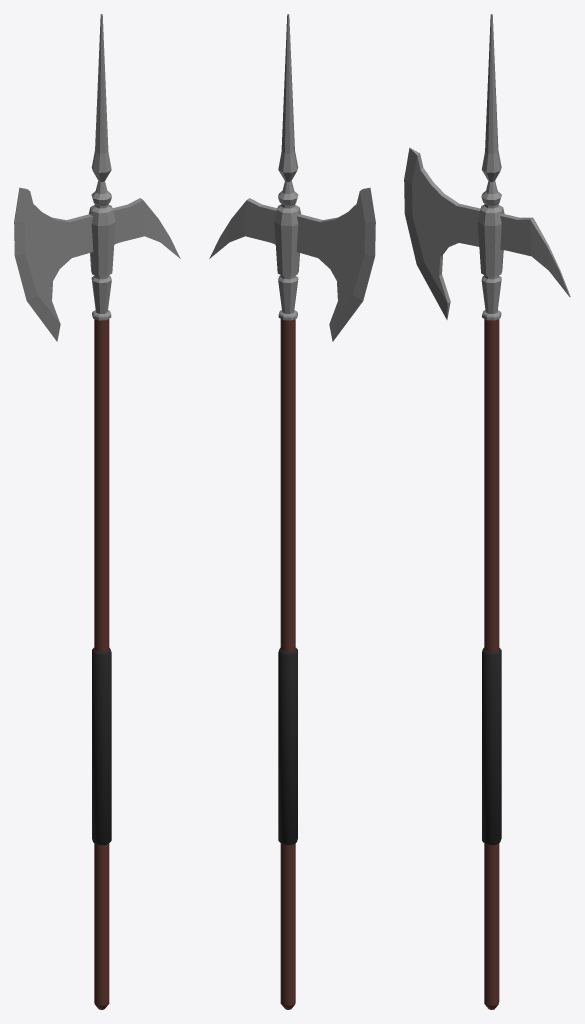
Rendered from halberd.gltf.
The picture shows the model from 3 angles, left to right: view 1: azimuth 30°, elevation 25°; view 2: azimuth 150°, elevation 25°; view 3: azimuth 330°, elevation 25°; orthographic projection.
Parts seen in each view (by area): view 1: Cube.001; view 2: Cube.001; view 3: Cube.001.
Part boxes in pixels (left/top/right/bottom): Cube.001: left=14, top=14, right=180, bottom=1009; Cube.001: left=209, top=14, right=375, bottom=1009; Cube.001: left=404, top=14, right=570, bottom=1009.
Size of the model in its own units: 0.3709 by 2.12 by 0.0561.
